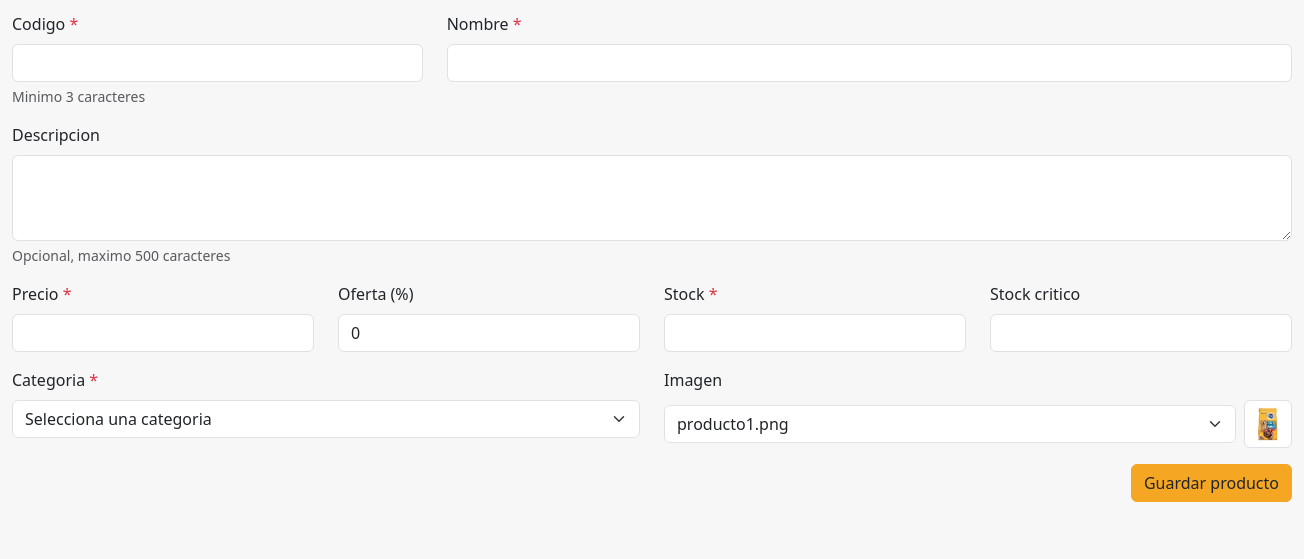
FormularioProducto › borra el error de un campo cuando el usuario lo corrige
Click the button "Guardar producto". click: {"x": 1211, "y": 483}
box: [1131,464,1292,502]
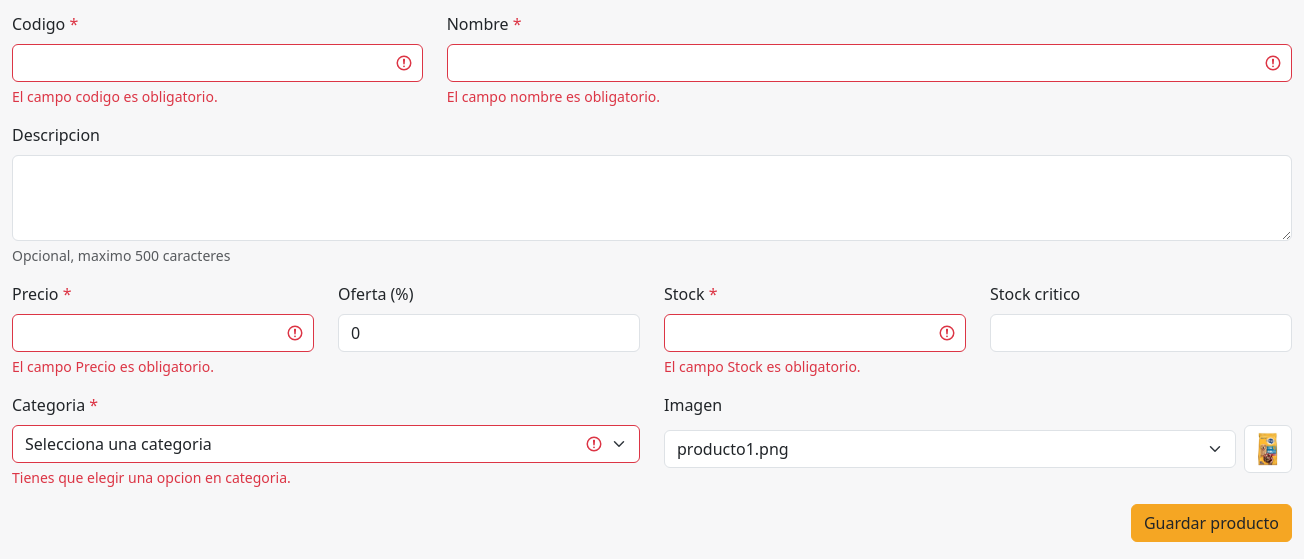
expect the text "El campo nombre es obligatorio." is shown: met, box [447,87,660,106]
Type "Arena" into the field labelled "Nombre *". click: {"x": 869, "y": 63}
box: [447,44,1292,82]
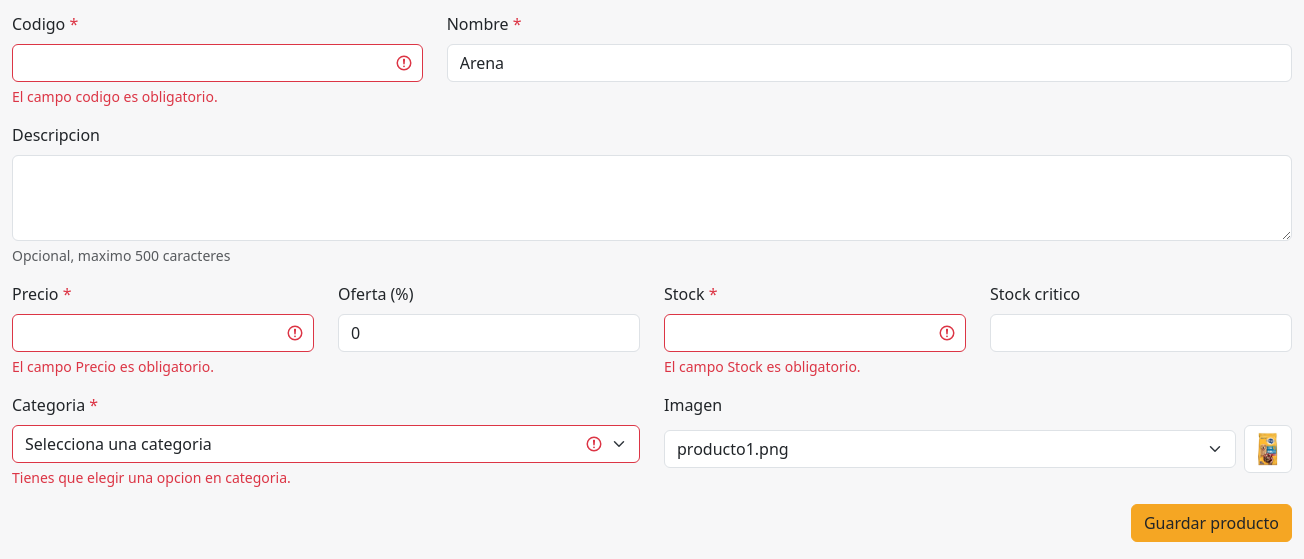
expect the text "El campo nombre es obligatorio." is gone: met
